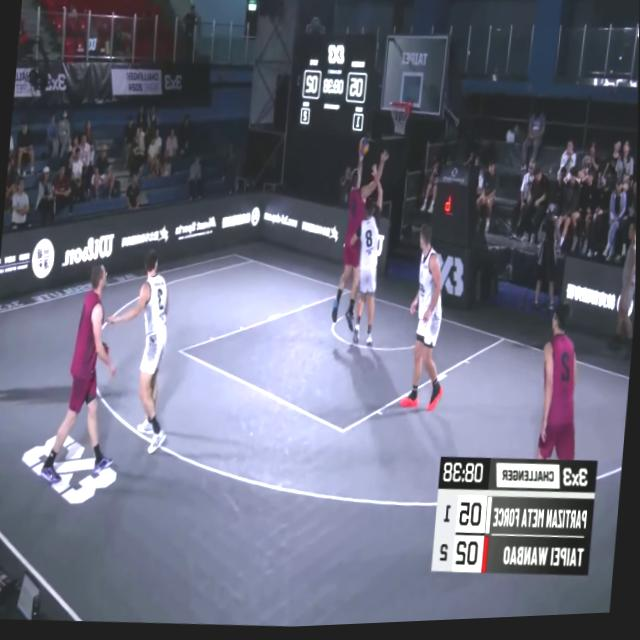ball: (355, 134, 373, 164)
hoop: (388, 99, 413, 137)
player: (44, 258, 134, 487), (97, 248, 177, 460), (331, 132, 391, 337), (400, 221, 459, 416), (342, 170, 389, 357), (536, 306, 589, 465)
